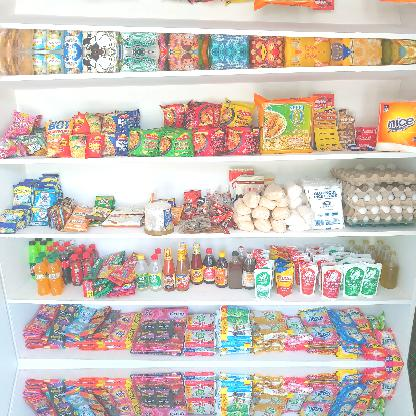Lady-s-Choice: (144, 202, 174, 235)
